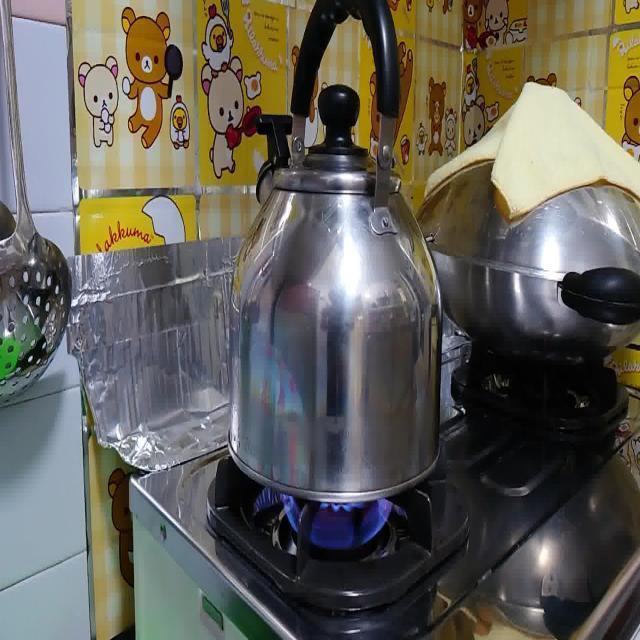Flame: (279, 499, 395, 556)
Pan: (218, 4, 456, 495)
